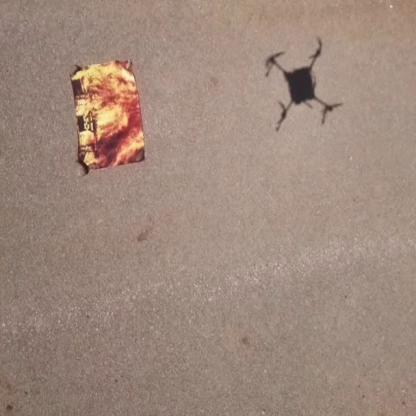fire-poster: (68, 57, 146, 175)
